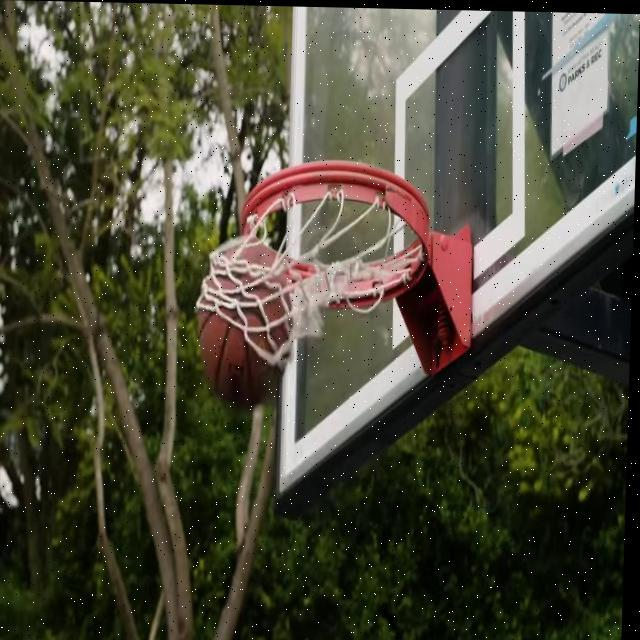Goal: (195, 236, 297, 410)
